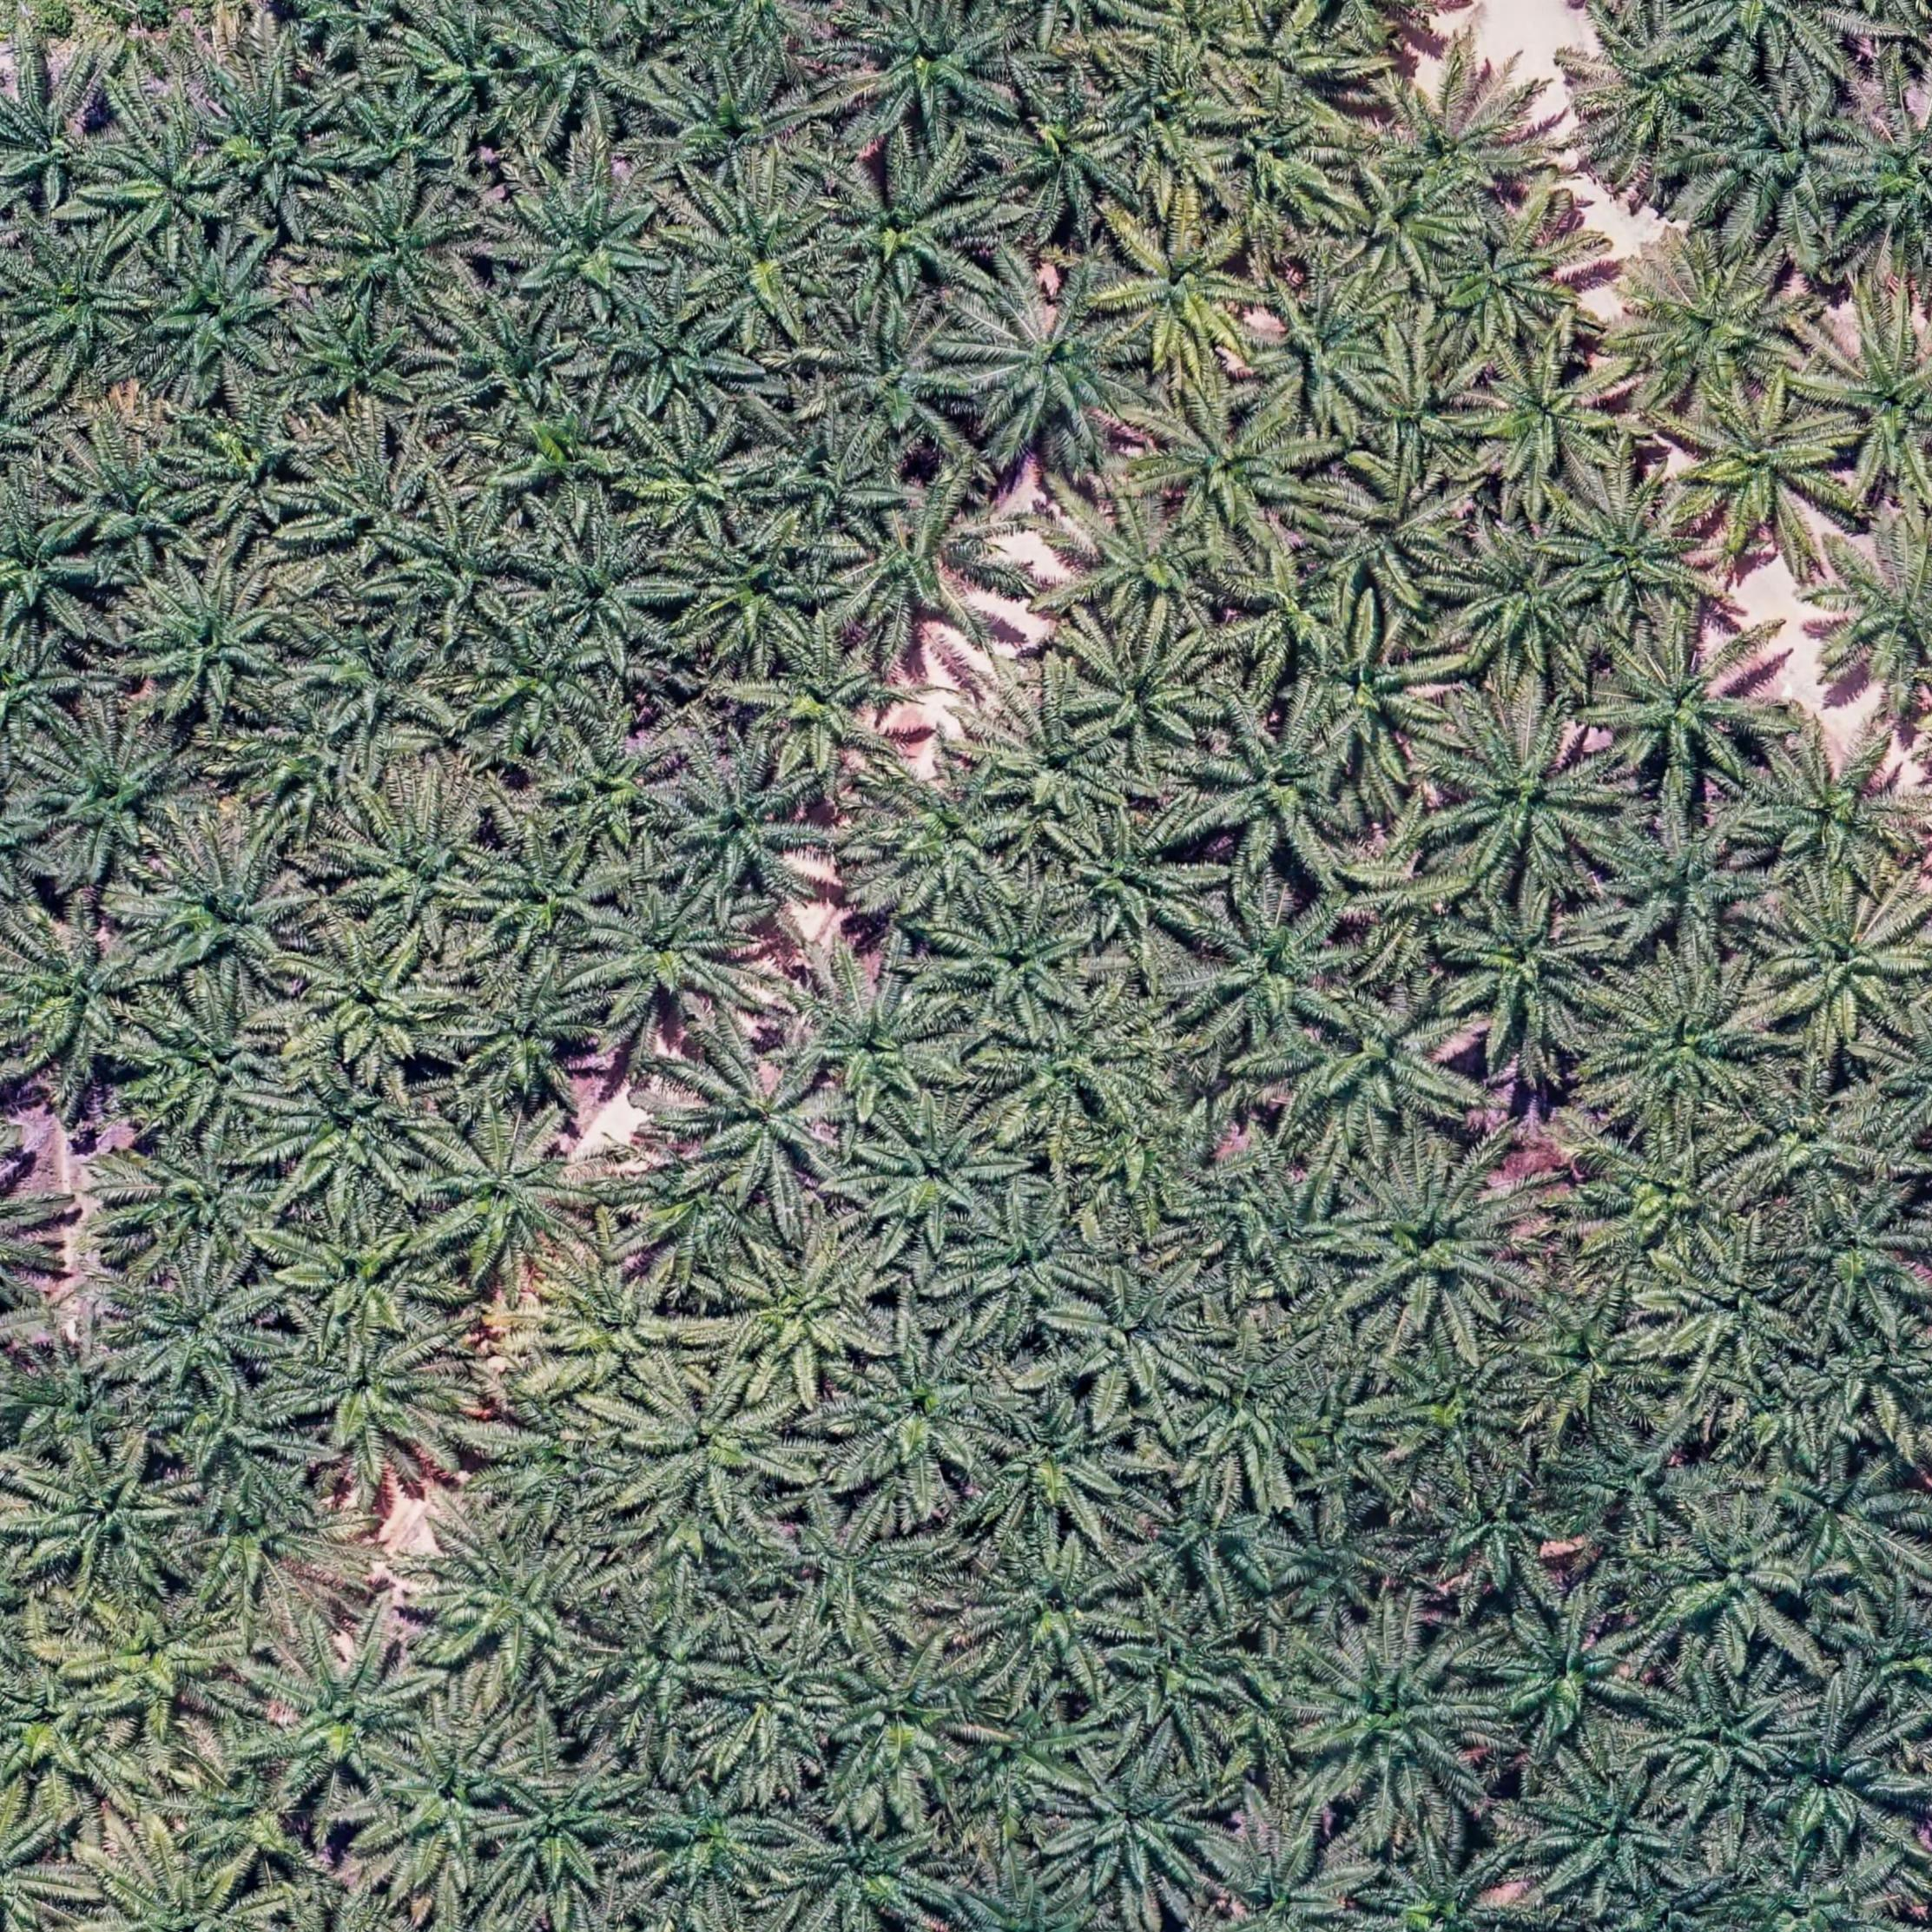palmtree: (1294, 1622, 1497, 1819), (1337, 1148, 1536, 1343), (1610, 236, 1814, 425), (1427, 706, 1625, 899), (959, 268, 1155, 461), (276, 1321, 474, 1491), (618, 1368, 810, 1542), (1132, 376, 1316, 557), (837, 483, 1031, 655), (424, 1515, 613, 1689), (1735, 731, 1925, 901), (1595, 626, 1780, 801), (1677, 383, 1857, 559), (255, 1624, 433, 1802), (838, 1328, 1021, 1499), (577, 875, 765, 1040), (1362, 58, 1557, 218), (813, 147, 994, 318), (495, 157, 678, 326), (1458, 342, 1638, 512), (136, 834, 321, 999), (1438, 885, 1615, 1057), (966, 1390, 1149, 1556), (1291, 987, 1477, 1150), (425, 1110, 602, 1276), (25, 720, 203, 886), (1596, 963, 1779, 1124), (670, 175, 844, 344), (1753, 880, 1928, 1049), (1238, 264, 1407, 438), (371, 1715, 536, 1892), (1687, 79, 1866, 241), (1180, 1152, 1374, 1302), (1594, 803, 1774, 964), (122, 563, 300, 725), (16, 1441, 198, 1599), (1421, 202, 1596, 366), (1576, 1122, 1762, 1276), (332, 783, 505, 947), (1638, 1502, 1812, 1665), (1190, 888, 1363, 1052), (982, 73, 1149, 241), (1100, 210, 1267, 379), (1298, 612, 1461, 784), (663, 748, 834, 911), (115, 1129, 297, 1281), (725, 1229, 896, 1390), (1057, 1750, 1230, 1908), (1191, 703, 1350, 874), (962, 1542, 1142, 1693), (809, 298, 979, 458), (1484, 1597, 1656, 1754), (287, 920, 458, 1077), (1315, 454, 1474, 620), (1507, 1283, 1676, 1439), (535, 1253, 704, 1408), (794, 973, 965, 1126), (266, 1060, 442, 1209), (841, 0, 1023, 142), (444, 961, 612, 1115), (817, 1636, 980, 1794), (1437, 525, 1601, 682), (181, 1486, 359, 1630), (1553, 477, 1719, 631), (76, 1589, 245, 1742), (988, 991, 1157, 1143), (1807, 518, 1932, 722), (1061, 489, 1236, 636), (1066, 616, 1232, 769), (685, 1042, 848, 1197), (1565, 13, 1724, 171), (132, 986, 297, 1139), (1177, 1329, 1332, 1491), (1648, 1225, 1810, 1380), (1807, 303, 1932, 504), (116, 1263, 289, 1408), (652, 54, 832, 193), (6, 914, 168, 1069), (669, 509, 831, 663), (1377, 1335, 1545, 1483), (1206, 85, 1365, 241), (749, 634, 911, 787), (858, 1099, 1021, 1250), (866, 771, 1031, 918), (1527, 1759, 1693, 1905), (1100, 1606, 1256, 1760), (532, 722, 696, 869), (1053, 806, 1215, 953), (289, 609, 456, 751), (1061, 1263, 1220, 1413), (325, 178, 491, 320), (501, 0, 670, 138), (138, 241, 293, 391), (1129, 1472, 1296, 1611), (698, 1629, 850, 1781), (1414, 1463, 1577, 1603), (279, 1206, 443, 1344), (1731, 1071, 1886, 1214), (776, 1512, 934, 1652), (522, 518, 682, 656), (208, 64, 354, 214), (1761, 1717, 1912, 1862), (1643, 1662, 1803, 1798), (1774, 1190, 1929, 1332), (946, 889, 1104, 1028), (1764, 1446, 1923, 1583), (485, 1769, 641, 1908), (633, 1772, 796, 1904), (56, 444, 211, 582), (466, 828, 623, 964), (753, 417, 908, 551), (978, 687, 1126, 827), (386, 498, 537, 635), (0, 1660, 135, 1812), (580, 1601, 734, 1735), (280, 290, 437, 421), (1082, 1083, 1227, 1223), (599, 287, 753, 419), (785, 1810, 952, 1932), (959, 1691, 1110, 1824), (12, 236, 158, 373), (961, 1192, 1105, 1330), (177, 403, 321, 541), (100, 123, 246, 260), (1352, 341, 1493, 482), (1553, 1421, 1705, 1548), (437, 298, 595, 419), (237, 699, 379, 833), (1203, 1821, 1371, 1932), (287, 445, 430, 576), (471, 617, 616, 745), (624, 416, 769, 540), (76, 1847, 286, 1932), (1281, 1501, 1415, 1632), (164, 1374, 310, 1494), (485, 1414, 625, 1539), (1220, 538, 1335, 689), (1834, 104, 1932, 278), (1361, 1841, 1545, 1932), (1805, 1318, 1932, 1447), (497, 391, 632, 511), (630, 1157, 770, 1273), (178, 1758, 311, 1880), (1, 1345, 137, 1463), (1335, 173, 1473, 287), (0, 66, 112, 202), (0, 495, 108, 635), (1834, 1583, 1932, 1731), (406, 3, 522, 119), (343, 86, 468, 190), (1717, 1350, 1818, 1475), (0, 631, 85, 751), (1681, 0, 1815, 74)
